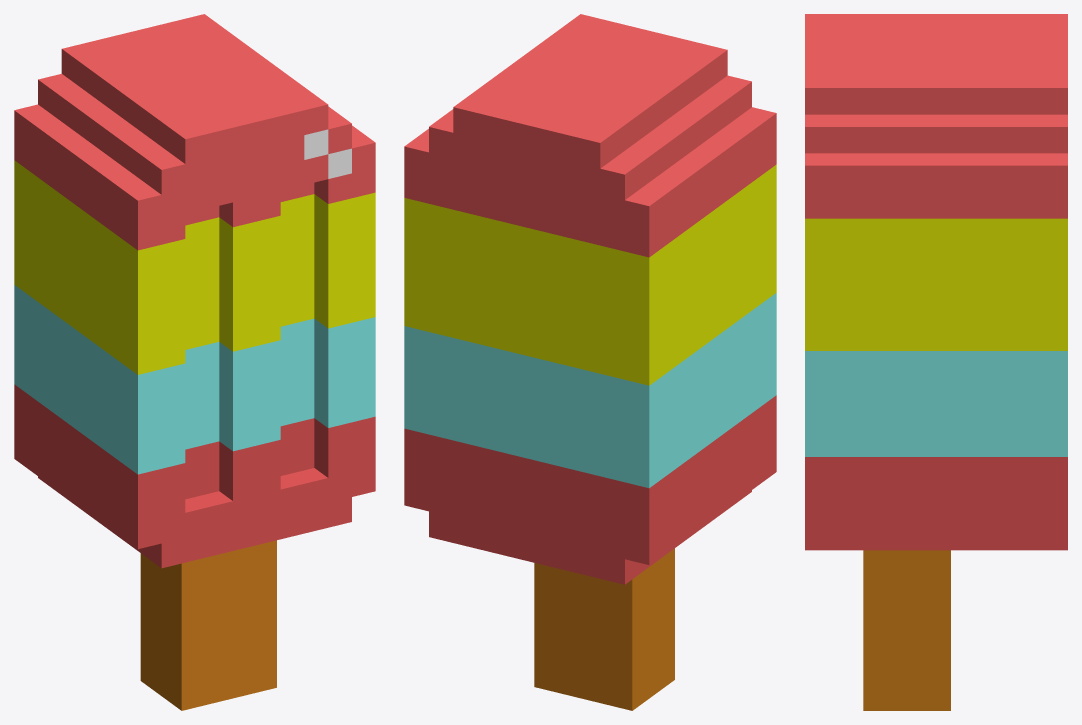
The model's file is objeto.glb.
3 views of the same model, side by side, from view 1: azimuth 30°, elevation 25°; view 2: azimuth 150°, elevation 25°; view 3: azimuth 270°, elevation 25° (orthographic). The views are drawn at different scales.
Parts seen in each view (by area): view 1: defaultobject; view 2: defaultobject; view 3: defaultobject.
Part boxes in pixels (x1,y1,x2,y2): defaultobject: (14, 14, 375, 710); defaultobject: (404, 14, 776, 710); defaultobject: (805, 14, 1067, 710).
Size of the model in its own units: 1 by 2.4 by 0.9.
Materials: 1 (1 with a texture image).
